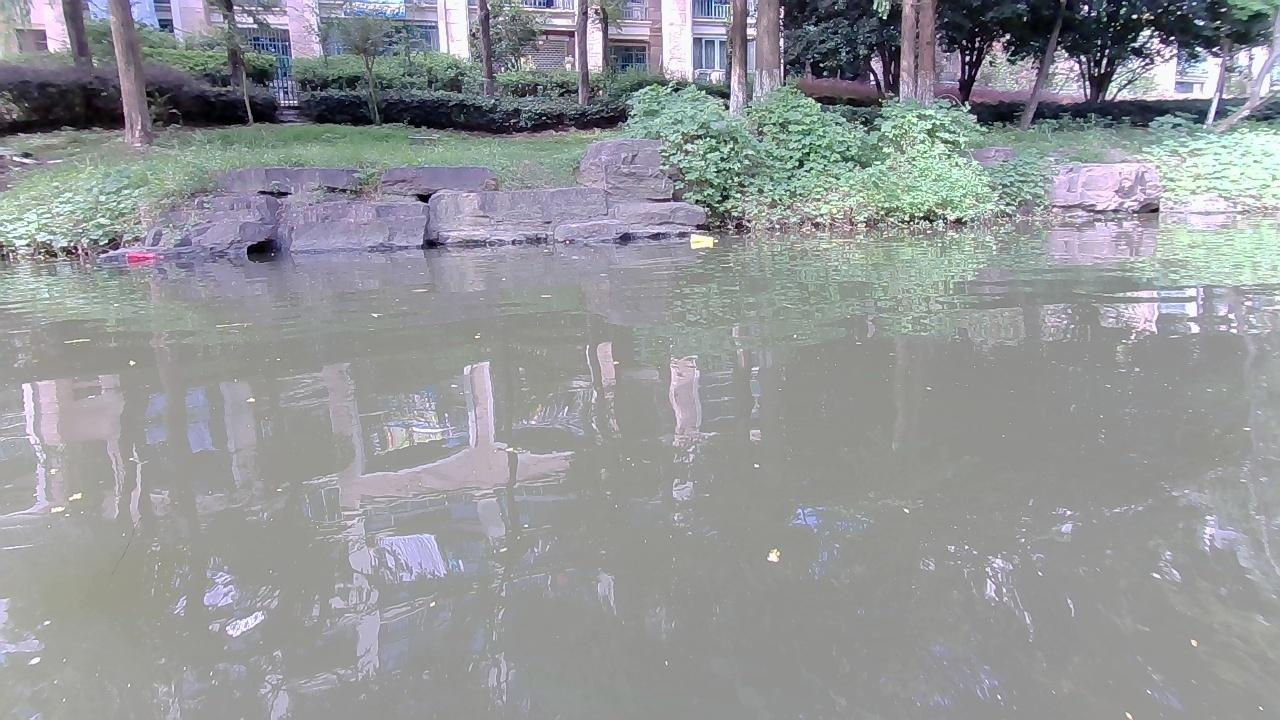bottle: (121, 248, 166, 265), (685, 231, 718, 250)
